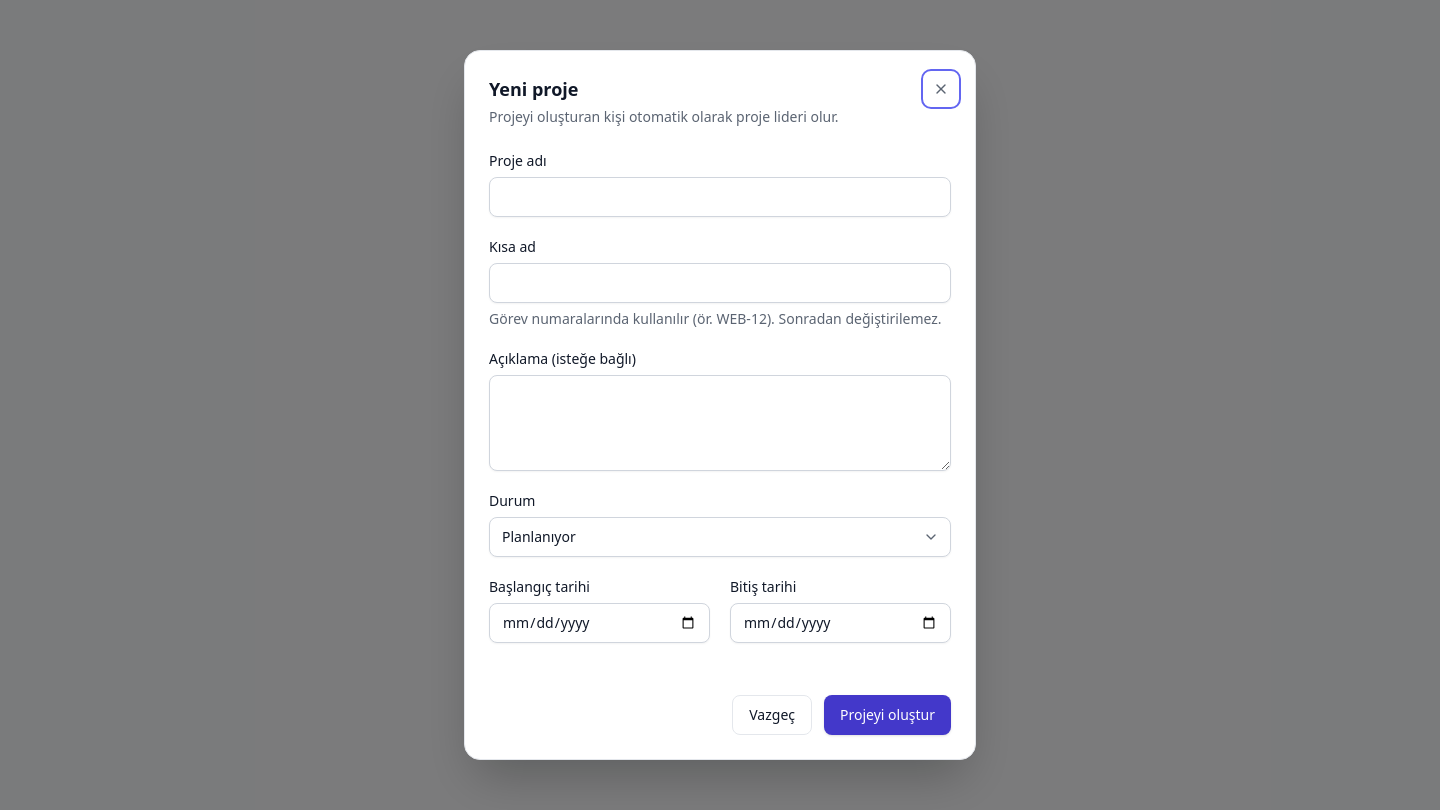
Test: ProjectFormDialog › shows a taken key on the key field
This screenshot has width=1440, height=810.
Type "Web sitesi" into the field labelled "Proje adı". click: coordinates (720, 197)
box: [489,177,951,217]
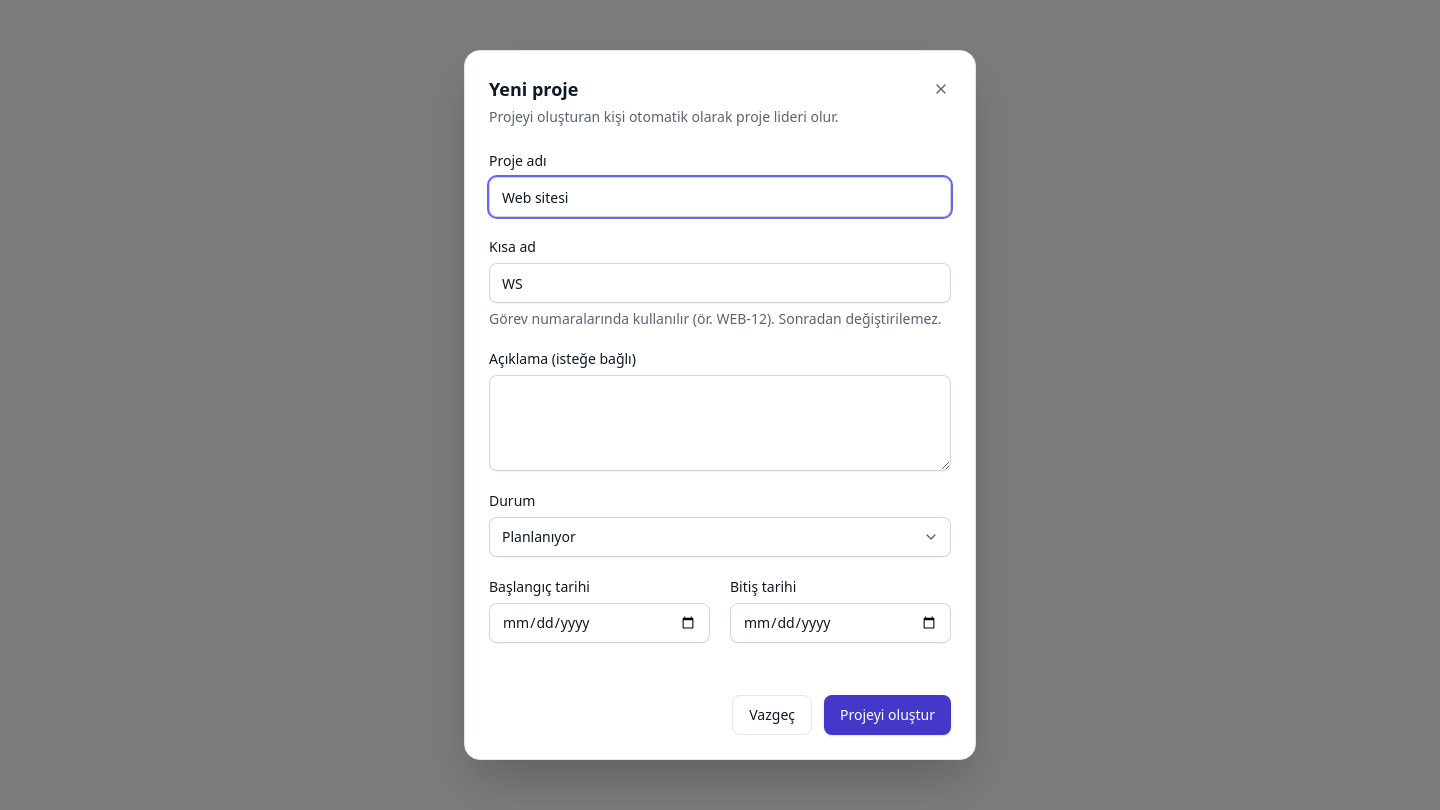
Click the button "Projeyi oluştur". click: coordinates (888, 715)
box: [824,695,951,735]
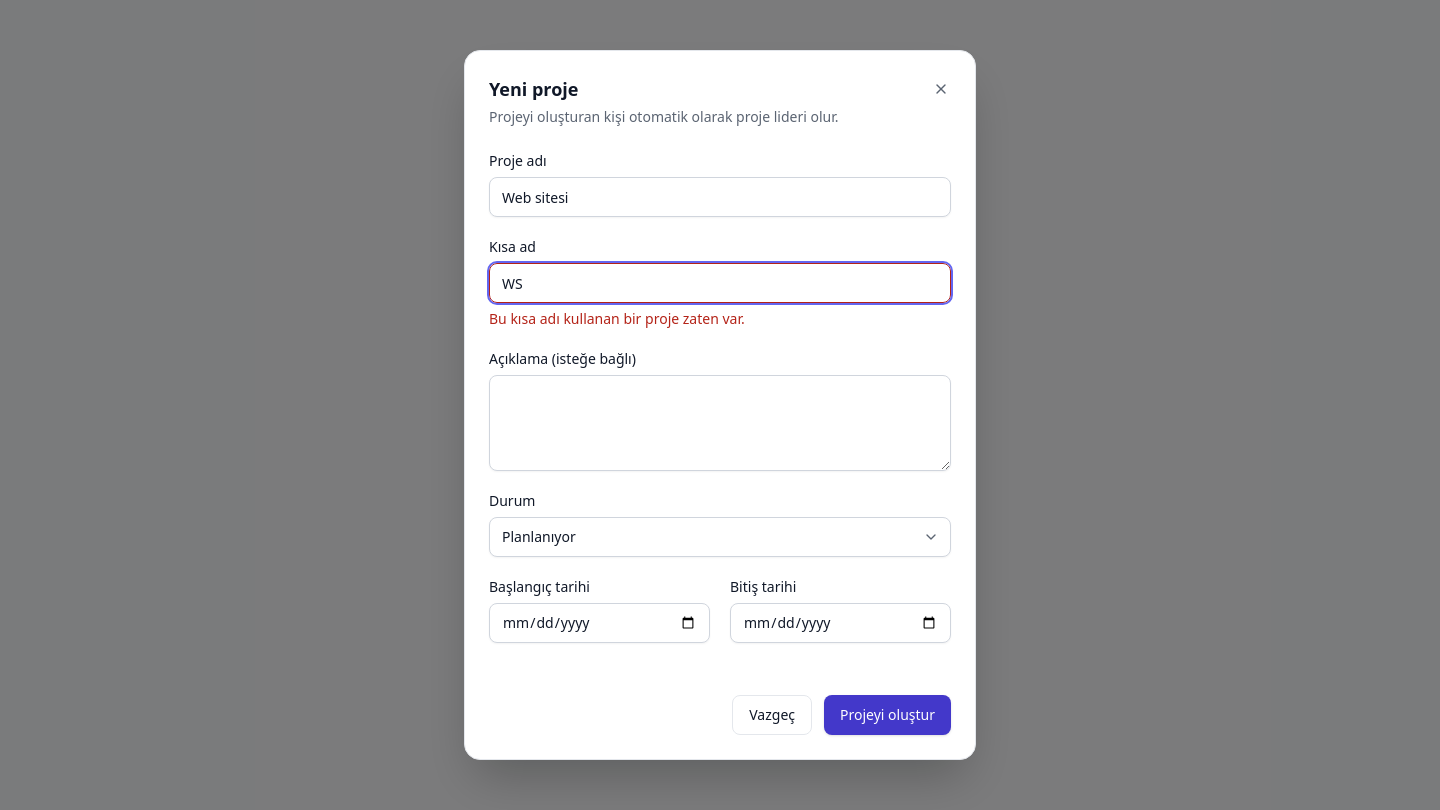
Check: the text "Bu kısa adı kullanan bir proje zaten var." is shown, box [489,309,745,328]
